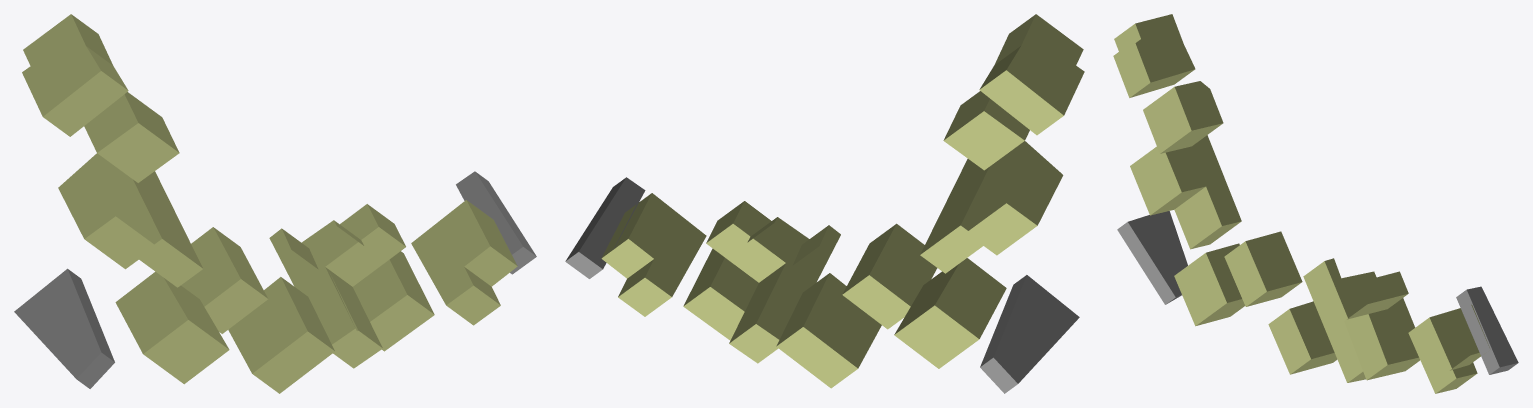
The picture shows the model from 3 angles, left to right: view 1: azimuth 30°, elevation 25°; view 2: azimuth 150°, elevation 25°; view 3: azimuth 330°, elevation 25°; orthographic projection. The views are drawn at different scales.
Visible parts, largest first — view 1: 0_1_0_2_0_0_1_3; view 2: 0_1_0_2_0_0_1_3; view 3: 0_1_0_2_0_0_1_3.
Boxes of the visible parts, <box> form: 0_1_0_2_0_0_1_3: <box>14,14,536,393</box>; 0_1_0_2_0_0_1_3: <box>565,14,1084,393</box>; 0_1_0_2_0_0_1_3: <box>1113,14,1518,393</box>.
Bounding box in the file's own units: 64.12 × 48.65 × 9.1.
